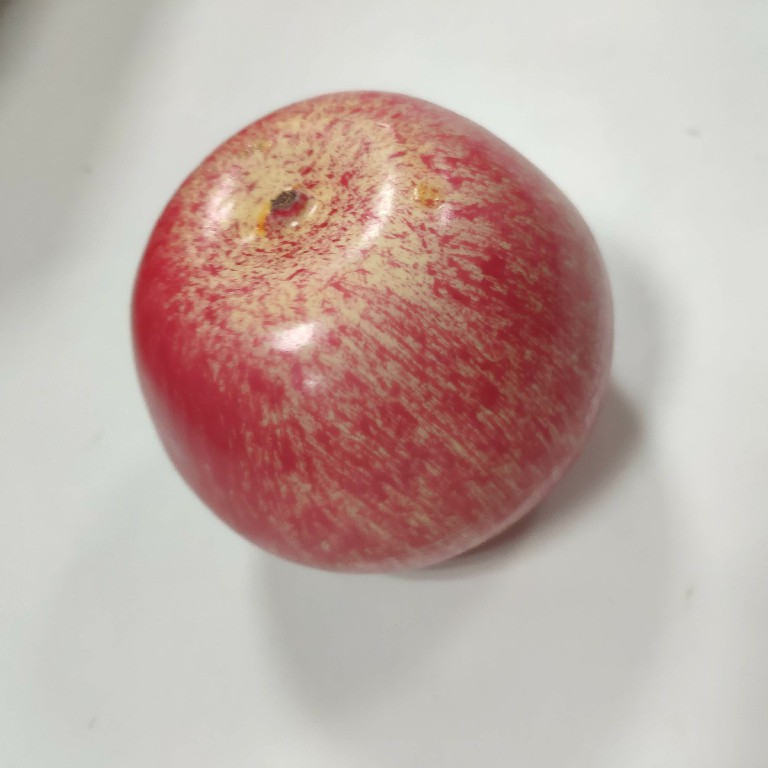fruit_apple: (123, 84, 622, 585)
